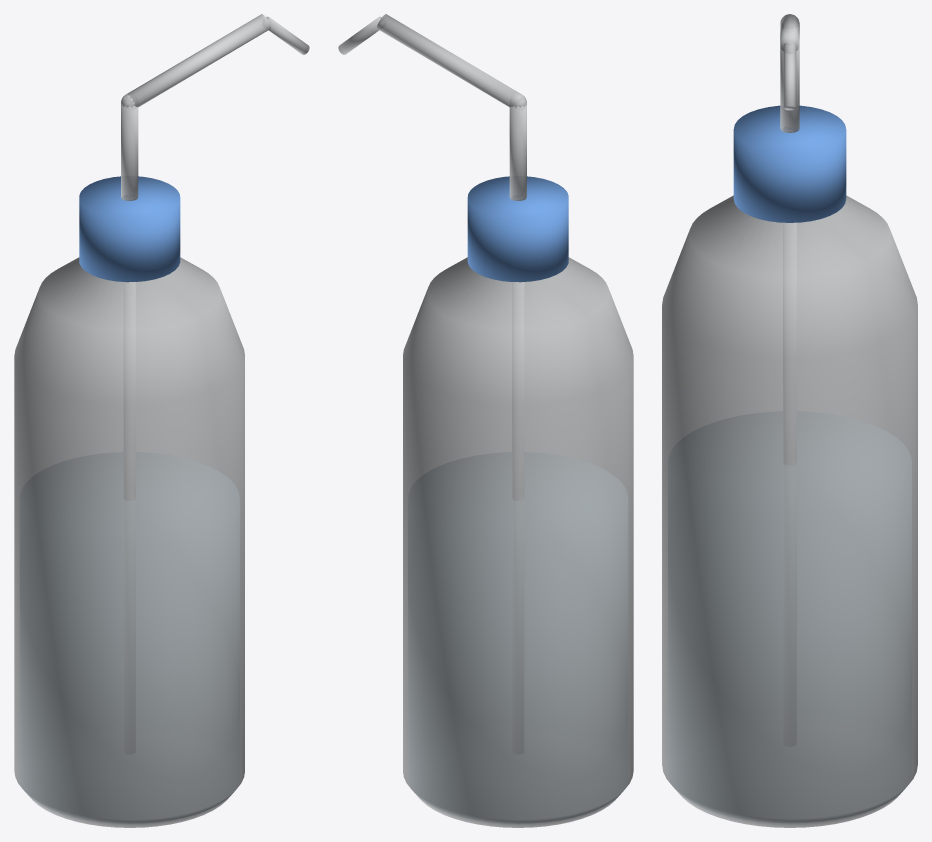
File: frasco-lavador.glb
The picture shows the model from 3 angles, left to right: view 1: azimuth 30°, elevation 25°; view 2: azimuth 150°, elevation 25°; view 3: azimuth 270°, elevation 25°; orthographic projection. The views are drawn at different scales.
Parts seen in each view (by area): view 1: frasco-lavador_1, frasco-lavador_0, frasco-lavador_2, frasco-lavador_5, frasco-lavador_3, frasco-lavador_4, frasco-lavador_6; view 2: frasco-lavador_1, frasco-lavador_0, frasco-lavador_2, frasco-lavador_5, frasco-lavador_3, frasco-lavador_4, frasco-lavador_6; view 3: frasco-lavador_1, frasco-lavador_0, frasco-lavador_2, frasco-lavador_3, frasco-lavador_4, frasco-lavador_6, frasco-lavador_5.
Boxes of the visible parts, box(x1,y1,x2,y2) form: frasco-lavador_1: box(14, 257, 244, 827); frasco-lavador_0: box(20, 452, 239, 823); frasco-lavador_2: box(79, 176, 180, 282); frasco-lavador_5: box(125, 14, 270, 107); frasco-lavador_3: box(124, 196, 135, 500); frasco-lavador_4: box(121, 100, 138, 200); frasco-lavador_6: box(262, 16, 309, 54); frasco-lavador_1: box(403, 257, 633, 827); frasco-lavador_0: box(408, 452, 627, 823); frasco-lavador_2: box(467, 176, 568, 282); frasco-lavador_5: box(377, 14, 522, 107); frasco-lavador_3: box(512, 196, 523, 500); frasco-lavador_4: box(509, 100, 526, 200); frasco-lavador_6: box(338, 16, 385, 54); frasco-lavador_1: box(662, 195, 917, 827); frasco-lavador_0: box(668, 412, 911, 822); frasco-lavador_2: box(733, 105, 846, 222); frasco-lavador_3: box(783, 127, 796, 465); frasco-lavador_4: box(780, 28, 799, 132); frasco-lavador_6: box(783, 42, 796, 110); frasco-lavador_5: box(780, 14, 799, 53).
Bounding box in the file's own units: 0.0921 × 0.2324 × 0.066.
